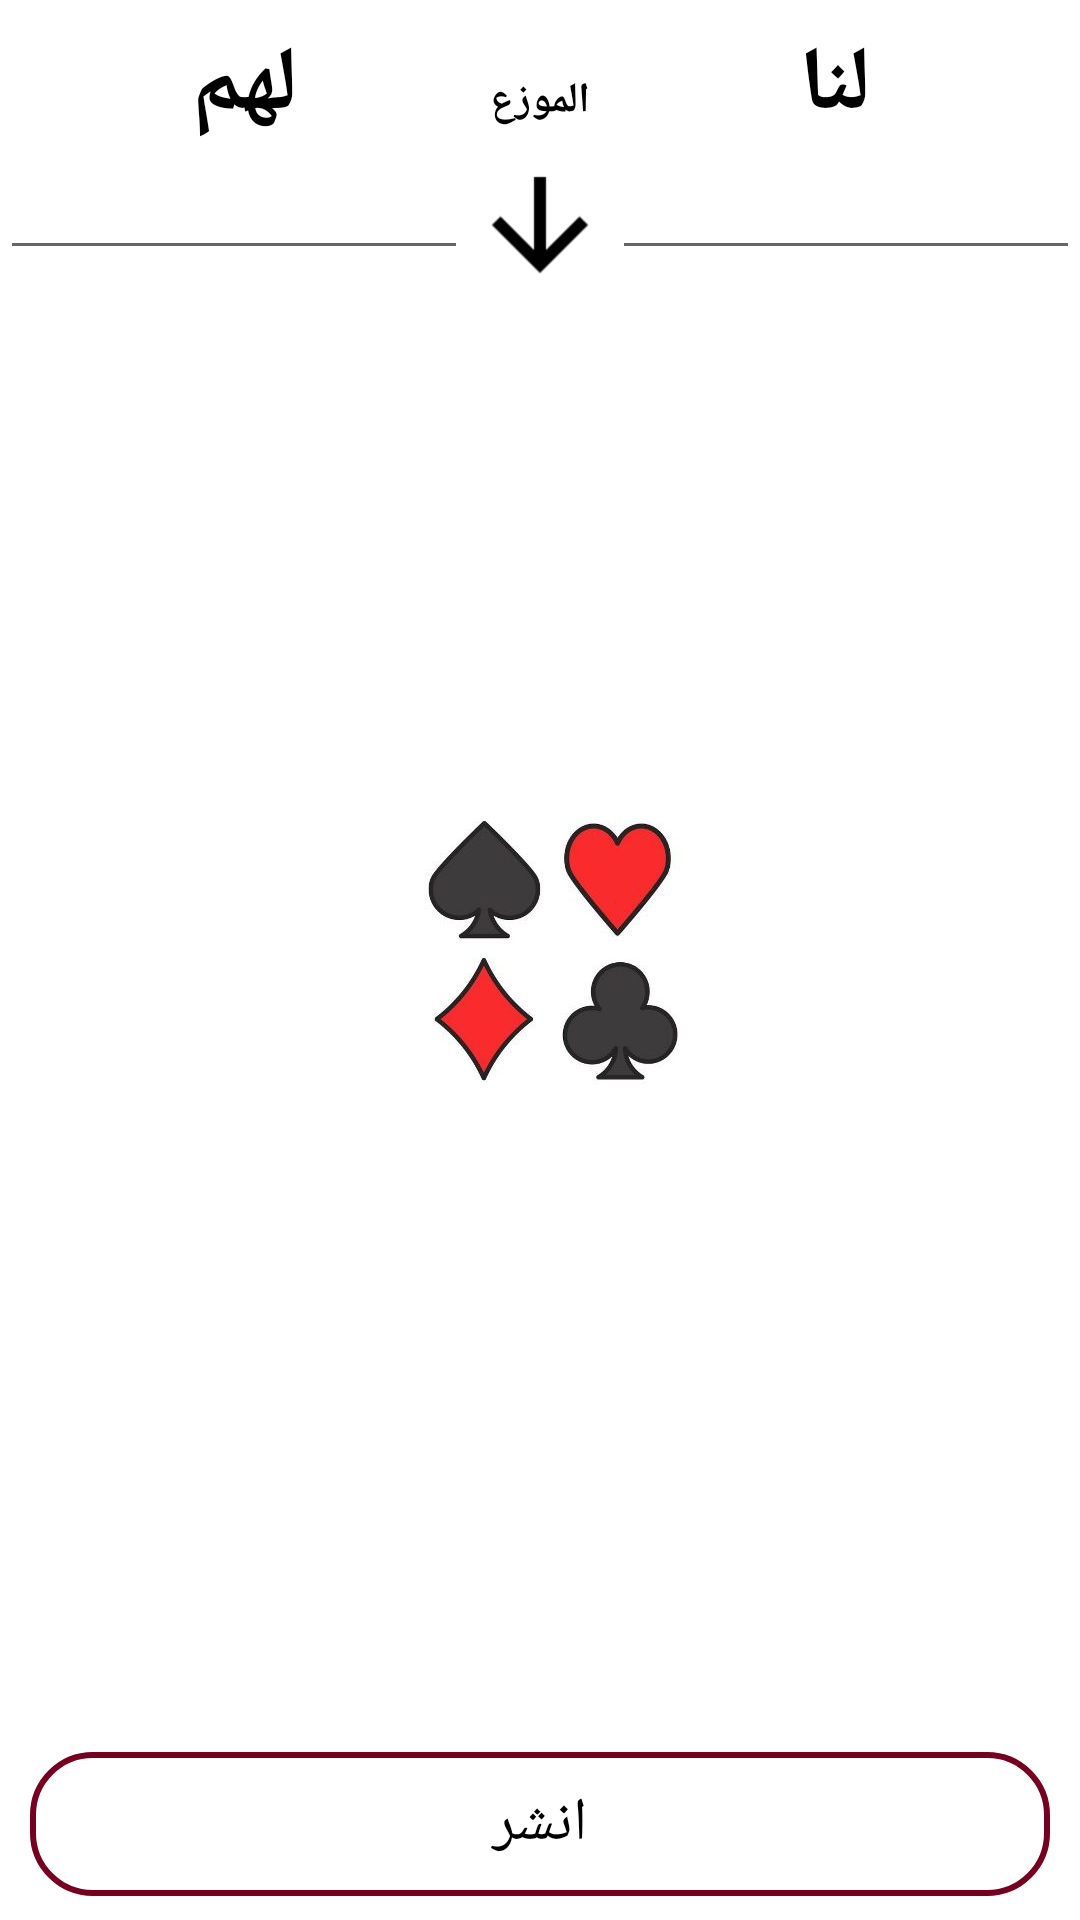

Where icons sit on this 1080px x 1920px app screen, as Rect(x1, y1, x2, y2):
down: Rect(492, 176, 588, 273)
